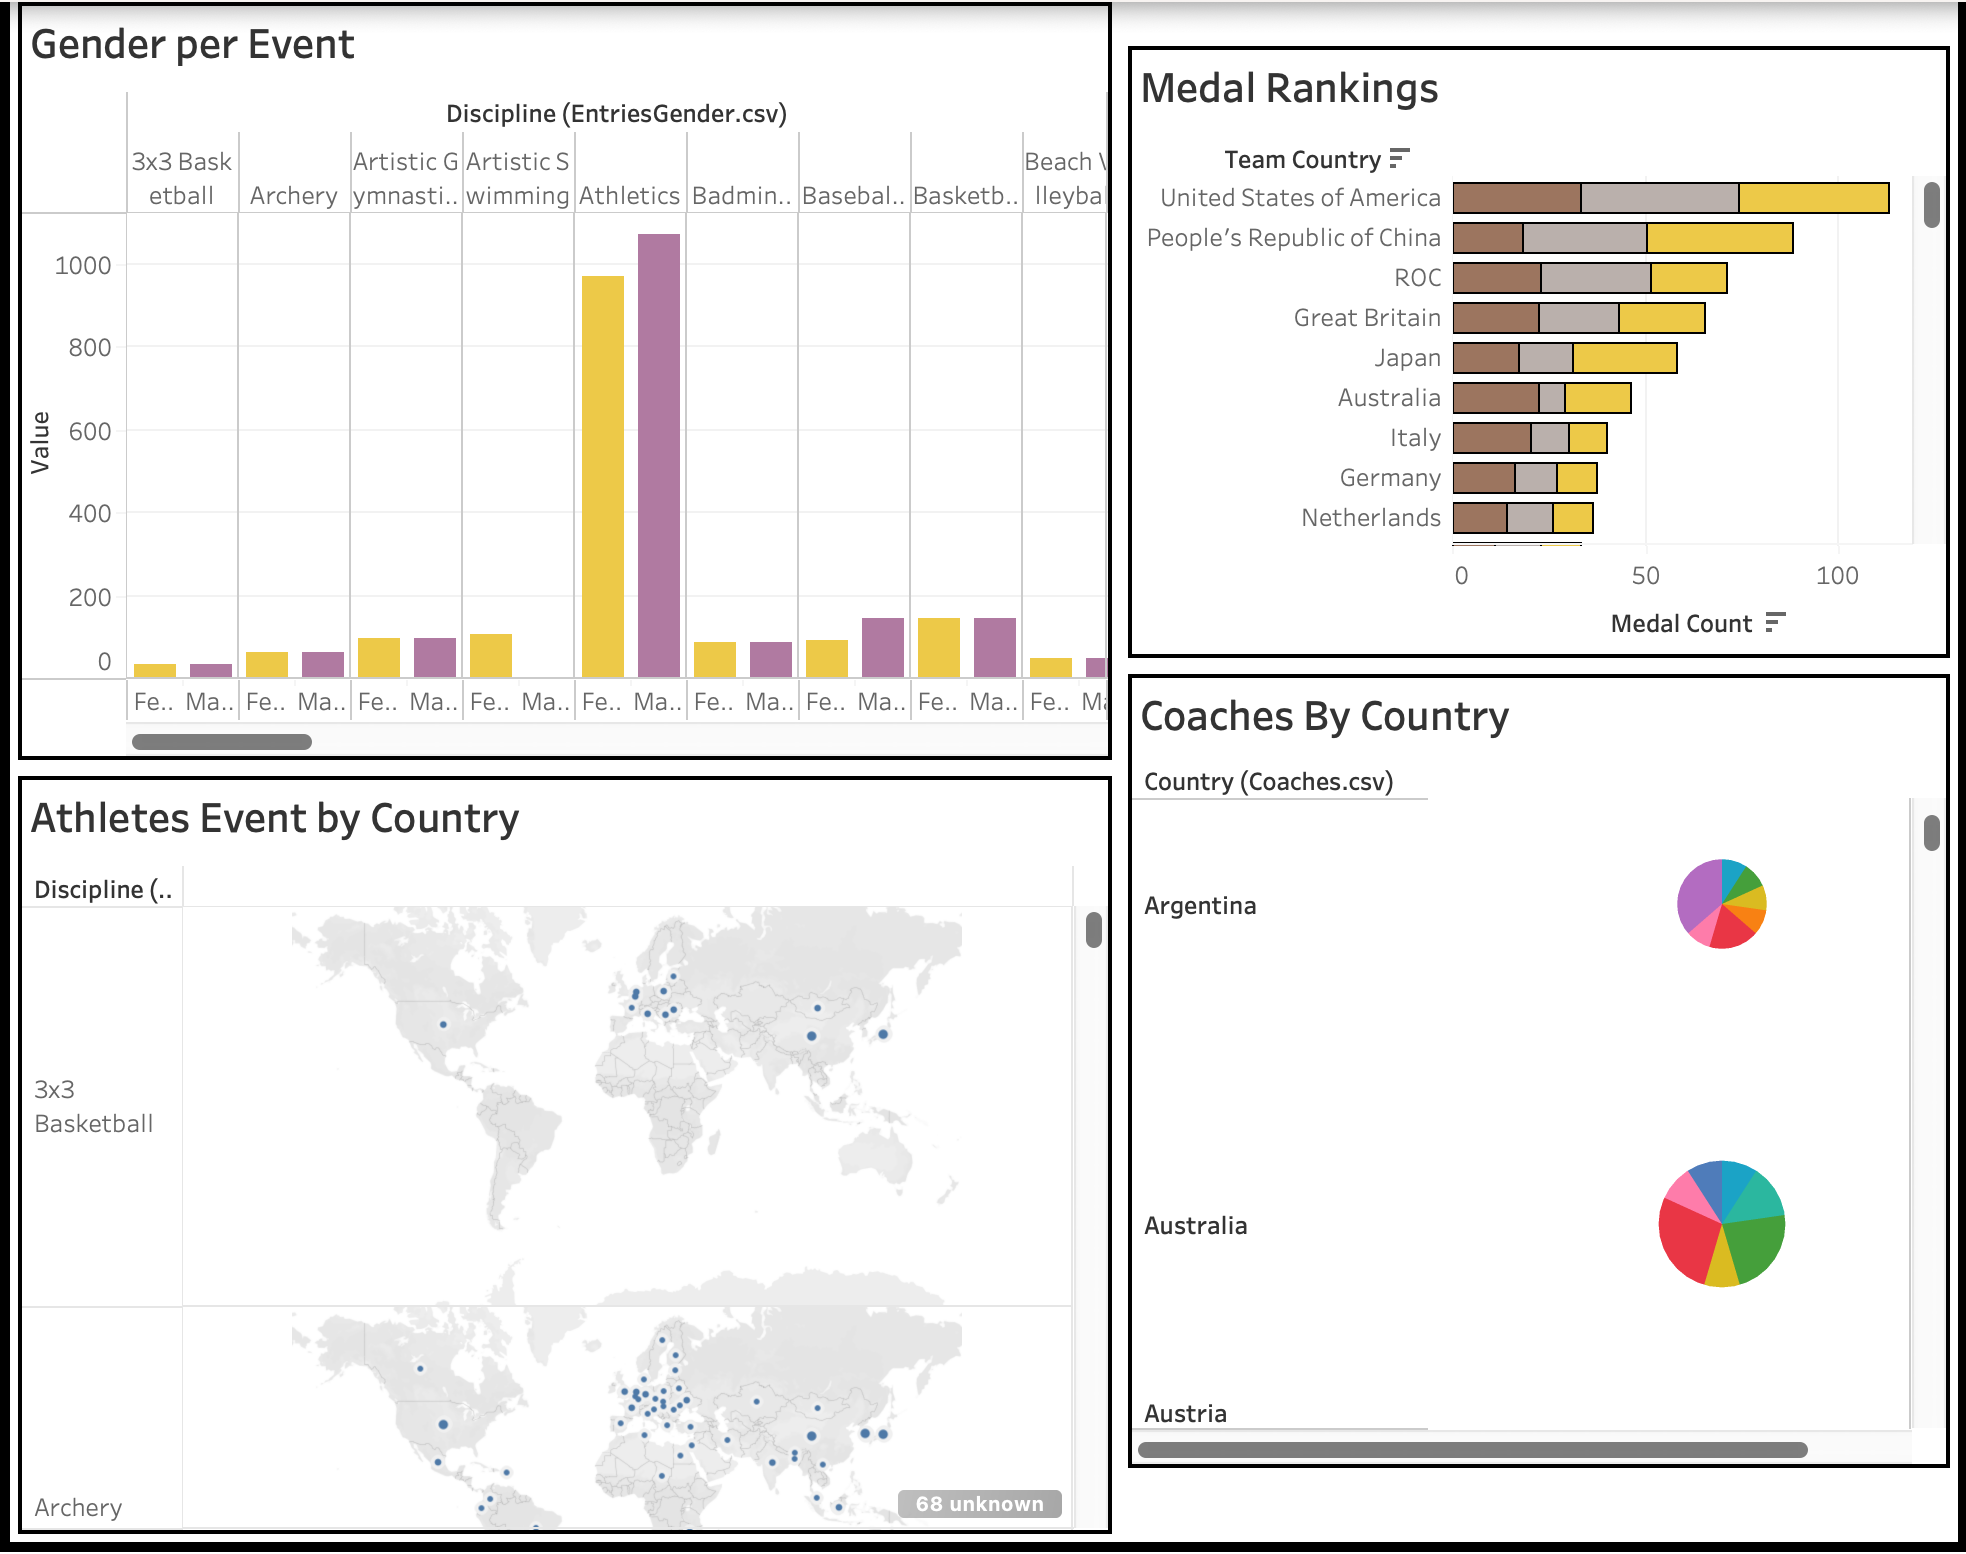

The dashboard page shown, as its layout file describes it:
{"tool":"tableau","page":{"name":"Dashboard 1","canvas":[1000,800],"ordinal":0},"visuals":[{"type":"worksheet","title":"Sheet 2","mark":"Automatic","cols":["Discipline (EntriesGender.csv)"],"box":[13,13,555,387]},{"type":"legend","title":"Sheet 3","param":"[federated.1i4wvo31befzac19ilsmu1lneprv].[:Measure Names]","box":[568,13,419,22]},{"type":"worksheet","title":"Sheet 3","mark":"Bar","rows":["TeamCountry"],"cols":["Pivot Field Values"],"box":[568,35,419,314.2]},{"type":"worksheet","title":"Sheet 4","mark":"Pie","rows":["Country (Coaches.csv)"],"box":[568,349.2,419,404.8]},{"type":"worksheet","title":"Sheet 1","mark":"Automatic","rows":["Discipline (EntriesGender.csv)"],"box":[13,400,555,387]}]}

Visuals, with their boxes in screenshot pixels (x1, y1, x2, y2), scaled from the page's 1000x800 canvas onto the 1966x1554 screenshot:
"Sheet 2" worksheet: <box>26,25,1117,777</box>
"Sheet 3" legend: <box>1117,25,1940,68</box>
"Sheet 3" worksheet (Bar marks): <box>1117,68,1940,678</box>
"Sheet 4" worksheet (Pie marks): <box>1117,678,1940,1465</box>
"Sheet 1" worksheet: <box>26,777,1117,1529</box>
